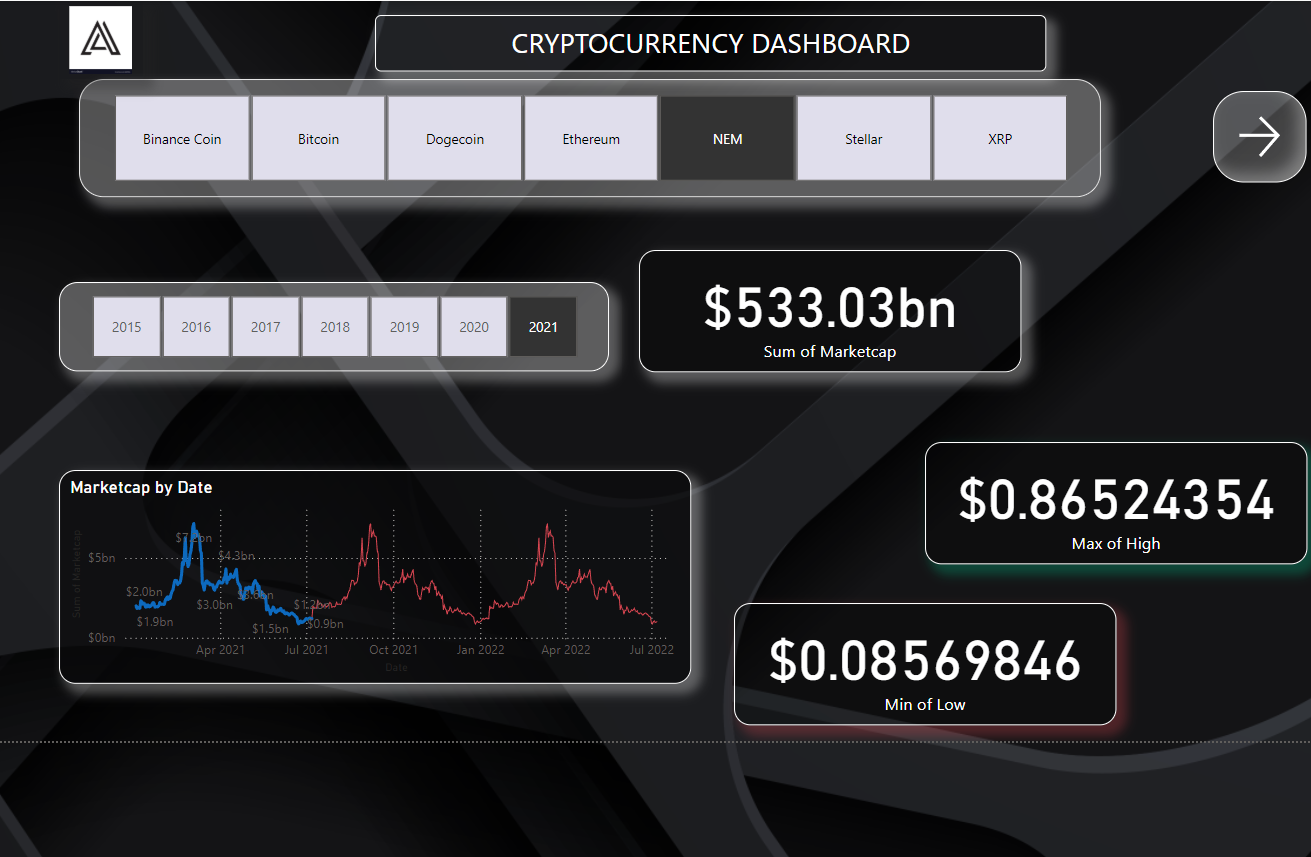

The page's visual inventory and layout, read from the dashboard file:
{"tool":"powerbi","page":{"name":"Page 1","canvas":[1280,720],"ordinal":0},"visuals":[{"type":"slicer","fields":{"Values":["pwerbi1.Name"]},"box":[77.9,75.9,994.2,114.9],"z":0},{"type":"slicer","fields":{"Values":["pwerbi1.Year"]},"box":[58.4,273.3,535,86.6],"z":1000},{"type":"lineChart","title":"Marketcap by Date","fields":{"Y":["Sum(pwerbi1.Marketcap)"],"Category":["pwerbi1.Date"]},"box":[58.4,456.2,614.7,208.1],"z":2000},{"type":"actionButton","box":[1181.1,87.9,90.9,88.9],"z":3000},{"type":"image","box":[58,0,81.9,75.9],"z":4000},{"type":"textbox","box":[365.7,14,653.5,55],"z":5000},{"type":"card","fields":{"Values":["Sum(pwerbi1.Marketcap)"]},"box":[622.5,241.8,371.7,118.9],"z":6000},{"type":"card","fields":{"Values":["Max(pwerbi1.High)"]},"box":[900.3,428.7,371.7,118.9],"z":7000},{"type":"card","fields":{"Values":["Min(pwerbi1.Low)"]},"box":[714.4,585.5,371.7,118.9],"z":8000}]}

Visuals, with their boxes on the page's 1280x720 design canvas (x1, y1, x2, y2). These are canvas units, not pixel positions in the 1311x857 screenshot, which may show the page scaled, cropped or inside an application window:
slicer - pwerbi1.Name: (x1=78, y1=76, x2=1072, y2=191)
slicer - pwerbi1.Year: (x1=58, y1=273, x2=593, y2=360)
"Marketcap by Date" lineChart: (x1=58, y1=456, x2=673, y2=664)
actionButton: (x1=1181, y1=88, x2=1272, y2=177)
image: (x1=58, y1=0, x2=140, y2=76)
textbox: (x1=366, y1=14, x2=1019, y2=69)
card - Sum(pwerbi1.Marketcap): (x1=622, y1=242, x2=994, y2=361)
card - Max(pwerbi1.High): (x1=900, y1=429, x2=1272, y2=548)
card - Min(pwerbi1.Low): (x1=714, y1=586, x2=1086, y2=704)
